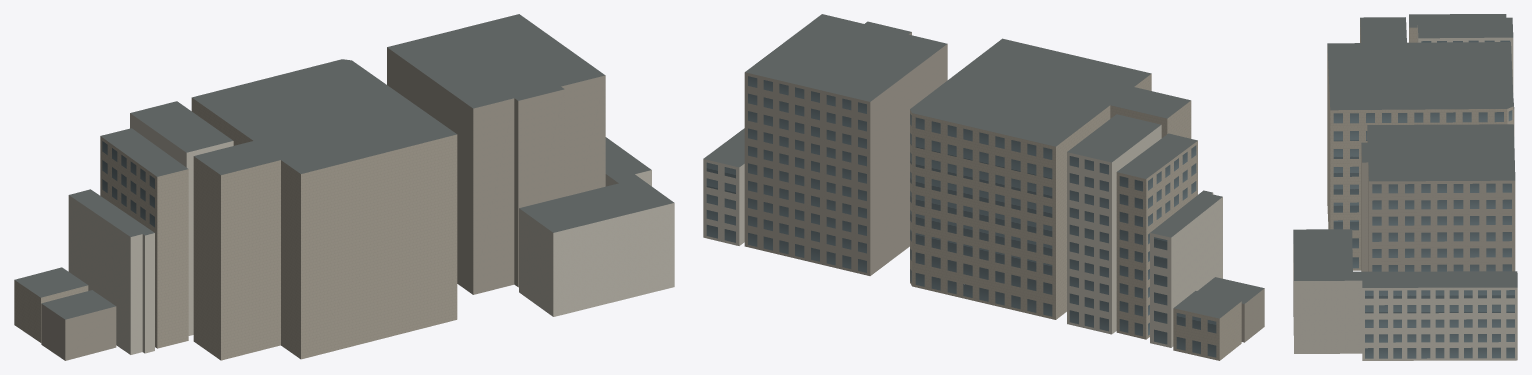
The picture shows the model from 3 angles, left to right: view 1: azimuth 30°, elevation 25°; view 2: azimuth 150°, elevation 25°; view 3: azimuth 270°, elevation 25°; orthographic projection. The views are drawn at different scales.
Parts seen in each view (by area): view 1: cell-e002-s001_base_stone, cell-e002-s001_base_roof, cell-e002-s001_base_tile-wall, cell-e002-s001_base_plaster, cell-e002-s001_base_glass; view 2: cell-e002-s001_base_roof, cell-e002-s001_base_stone, cell-e002-s001_base_glass, cell-e002-s001_base_tile-wall, cell-e002-s001_base_plaster; view 3: cell-e002-s001_base_roof, cell-e002-s001_base_plaster, cell-e002-s001_base_glass, cell-e002-s001_base_tile-wall, cell-e002-s001_base_stone.
Part boxes in pixels (<box>): cell-e002-s001_base_stone: <box>14,98,457,360</box>; cell-e002-s001_base_roof: <box>14,14,674,319</box>; cell-e002-s001_base_tile-wall: <box>41,47,605,360</box>; cell-e002-s001_base_plaster: <box>68,113,674,354</box>; cell-e002-s001_base_glass: <box>102,141,154,227</box>; cell-e002-s001_base_roof: <box>703,14,1264,318</box>; cell-e002-s001_base_stone: <box>910,74,1241,360</box>; cell-e002-s001_base_glass: <box>706,76,1216,357</box>; cell-e002-s001_base_tile-wall: <box>744,32,1264,342</box>; cell-e002-s001_base_plaster: <box>703,125,1222,347</box>; cell-e002-s001_base_roof: <box>1293,14,1517,287</box>; cell-e002-s001_base_plaster: <box>1293,25,1517,360</box>; cell-e002-s001_base_glass: <box>1333,40,1514,358</box>; cell-e002-s001_base_tile-wall: <box>1361,130,1515,271</box>; cell-e002-s001_base_stone: <box>1327,19,1514,270</box>.
Bounding box in the file's own units: 98.13 × 31.74 × 39.97.
Materials: 5 (4 with a texture image).
